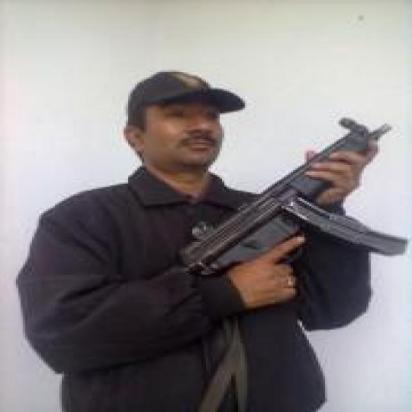Gun: (142, 115, 410, 294)
